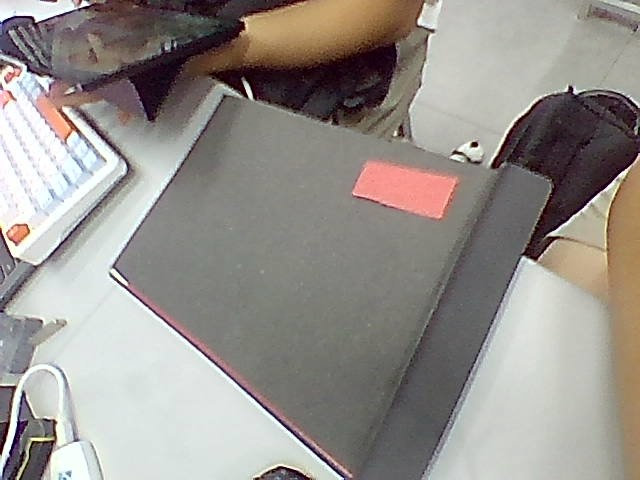card: (354, 160, 460, 219), (354, 160, 459, 219)
